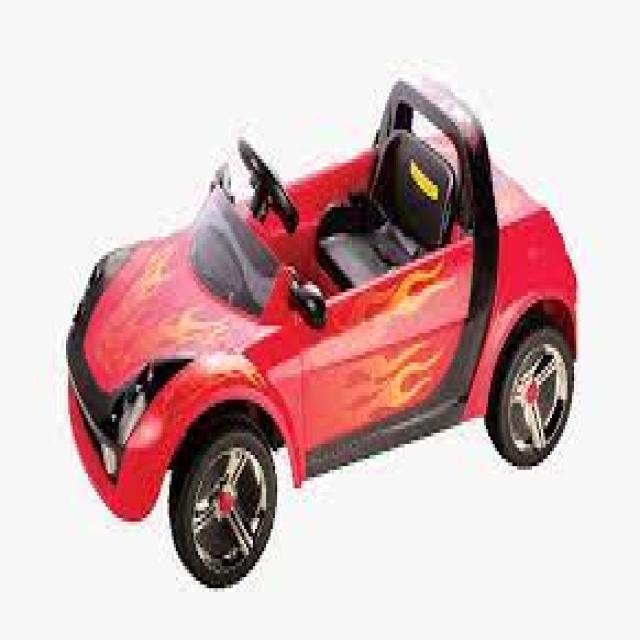Car: (64, 70, 578, 588)
